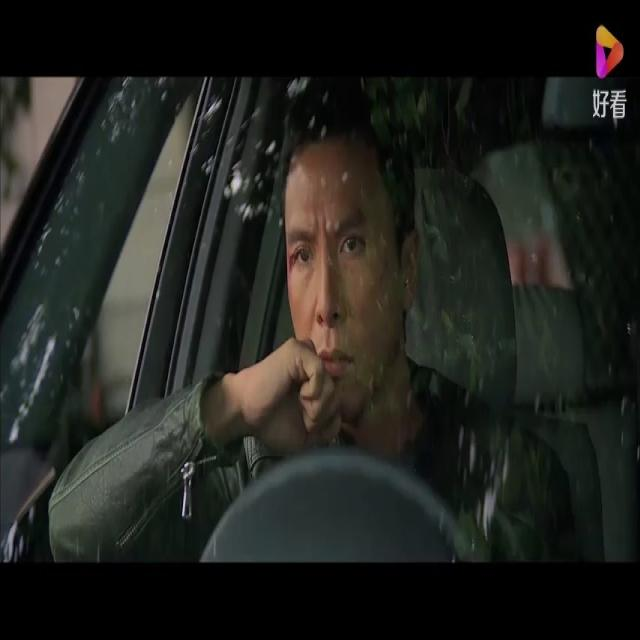non-fight: (47, 68, 582, 567)
